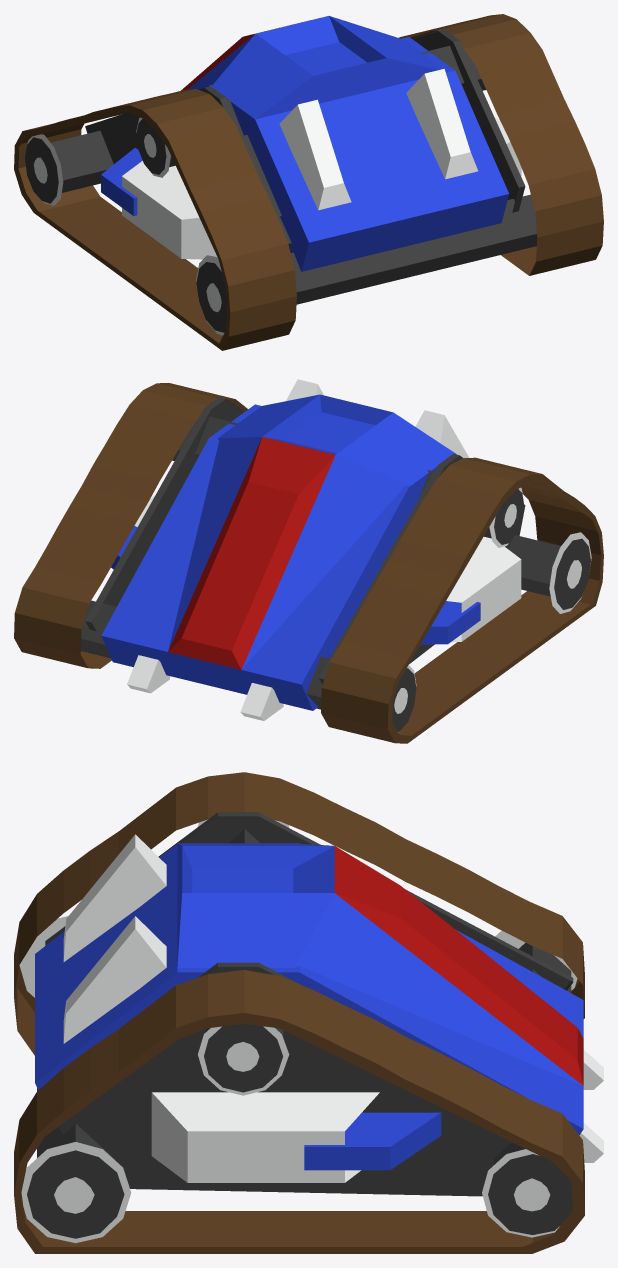
The model's file is Leg.obj.
The picture shows the model from 3 angles, top to bottom: view 1: azimuth 30°, elevation 25°; view 2: azimuth 150°, elevation 25°; view 3: azimuth 270°, elevation 25°; orthographic projection. The views are drawn at different scales.
Visible parts, largest first — view 1: Leg; view 2: Leg; view 3: Leg.
Boxes of the visible parts, box(x1,y1,x2,y2) form: Leg: box(14, 14, 603, 350); Leg: box(14, 379, 603, 743); Leg: box(14, 772, 603, 1253).
Bounding box in the file's own units: 0.6753 × 0.3425 × 0.6994.
